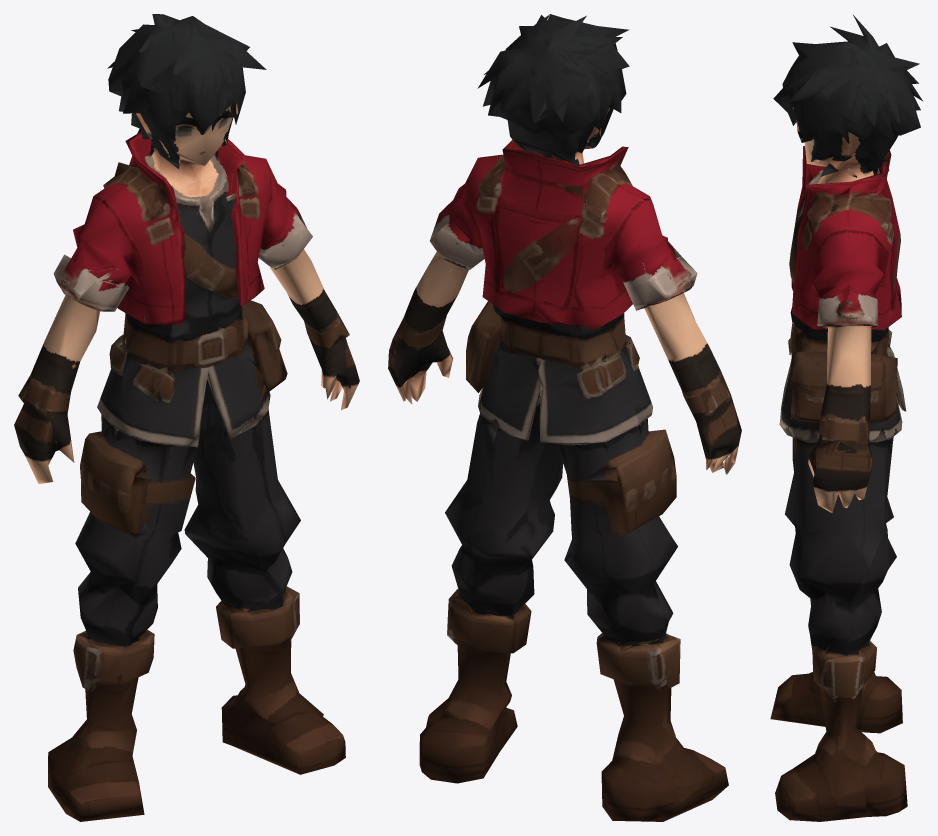
File: ren_generated.glb
3 views of the same model, side by side, from view 1: azimuth 30°, elevation 25°; view 2: azimuth 150°, elevation 25°; view 3: azimuth 270°, elevation 25° (orthographic). The views are drawn at different scales.
Bounding box in the file's own units: 0.4514 × 1 × 0.1893.
Materials: 1 (1 with a texture image).
